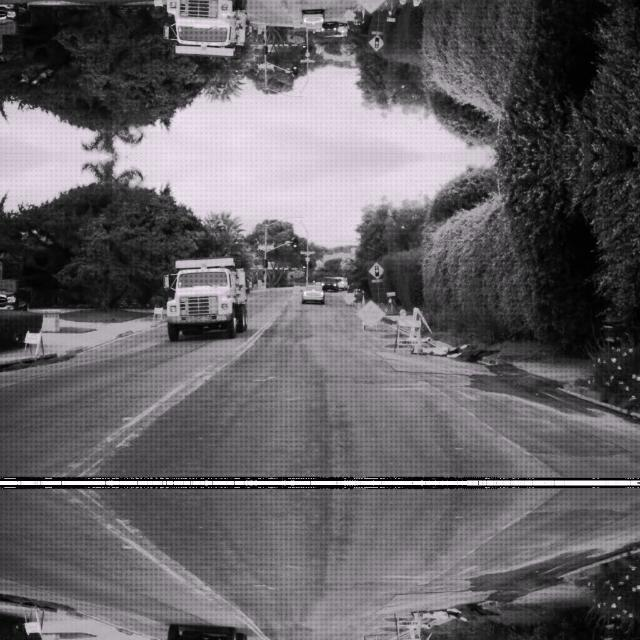signalAhead: (368, 260, 384, 278), (368, 34, 384, 52)
